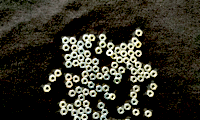nut: (43, 85, 52, 93), (54, 70, 62, 78), (62, 37, 70, 45), (65, 61, 73, 69), (65, 54, 73, 62), (81, 78, 89, 86), (85, 58, 93, 66), (85, 41, 93, 49), (95, 47, 103, 55), (99, 41, 107, 49), (133, 85, 141, 93), (120, 43, 128, 51), (135, 50, 143, 58), (49, 75, 56, 83), (60, 109, 68, 116), (59, 102, 67, 109), (63, 44, 70, 52), (69, 90, 76, 98), (66, 81, 73, 89), (65, 74, 73, 81), (73, 76, 80, 84), (71, 110, 79, 117), (72, 60, 80, 67), (71, 45, 79, 52), (76, 87, 83, 95), (75, 100, 82, 108), (78, 108, 85, 116), (85, 107, 92, 115), (83, 89, 90, 97), (82, 71, 89, 79), (78, 48, 86, 55), (77, 41, 85, 48), (86, 65, 93, 73), (84, 51, 92, 58), (93, 58, 100, 66), (93, 112, 100, 120), (103, 85, 110, 93), (101, 110, 109, 117), (103, 74, 111, 81), (102, 67, 110, 74), (99, 34, 107, 41), (107, 43, 115, 50), (115, 47, 122, 55), (111, 62, 119, 69), (119, 67, 126, 75), (118, 107, 125, 115), (124, 104, 132, 111), (133, 109, 140, 117), (131, 99, 139, 106), (130, 92, 138, 99), (147, 91, 155, 98), (150, 84, 158, 91), (131, 76, 138, 84), (127, 63, 134, 71), (131, 68, 138, 76), (128, 43, 135, 51), (135, 41, 142, 49), (128, 50, 136, 57), (131, 56, 138, 64), (138, 68, 145, 76), (144, 72, 151, 80), (67, 105, 74, 112), (71, 52, 78, 59), (70, 38, 77, 45), (78, 95, 85, 102), (83, 101, 90, 108), (80, 62, 87, 69), (78, 55, 85, 62), (89, 35, 96, 42), (88, 82, 95, 89), (90, 74, 97, 81), (93, 66, 100, 73), (90, 91, 97, 98), (96, 86, 103, 93), (109, 94, 116, 101), (98, 103, 105, 110), (97, 73, 104, 80), (107, 50, 114, 57), (111, 53, 118, 60), (110, 69, 117, 76), (114, 78, 121, 85), (116, 73, 123, 80), (117, 57, 124, 64), (145, 111, 152, 118), (138, 76, 145, 83), (121, 51, 128, 58), (136, 30, 143, 37), (132, 38, 139, 45), (135, 62, 142, 69), (145, 65, 152, 72), (151, 71, 158, 78), (124, 57, 130, 65), (83, 35, 89, 42), (81, 115, 89, 120), (105, 93, 110, 101), (100, 116, 108, 120), (74, 116, 81, 120)
